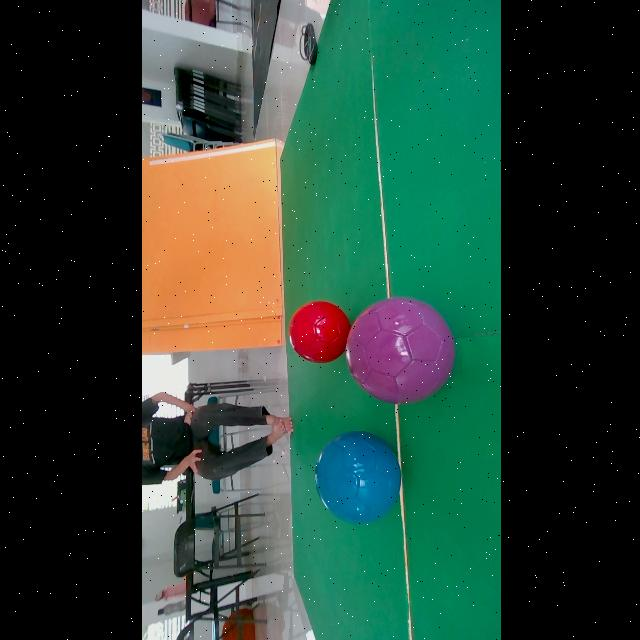B: (313, 432, 399, 523)
P: (344, 298, 453, 403)
R: (286, 300, 349, 364)
